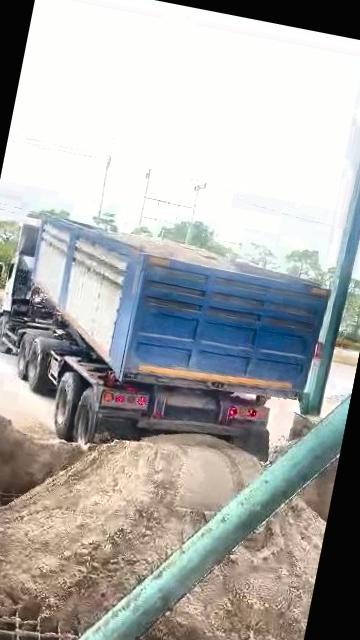sand: (0, 436, 262, 627), (156, 499, 325, 640), (0, 388, 85, 492), (108, 232, 245, 271), (301, 456, 340, 521), (270, 440, 296, 462)
